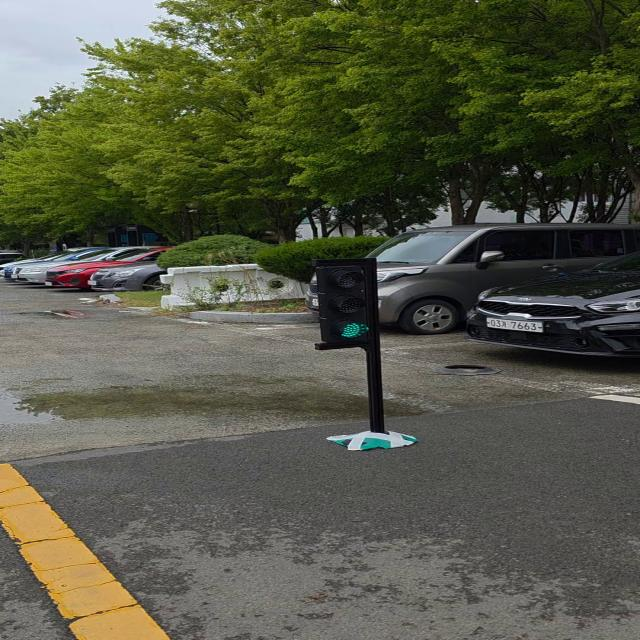green: (320, 261, 385, 348)
